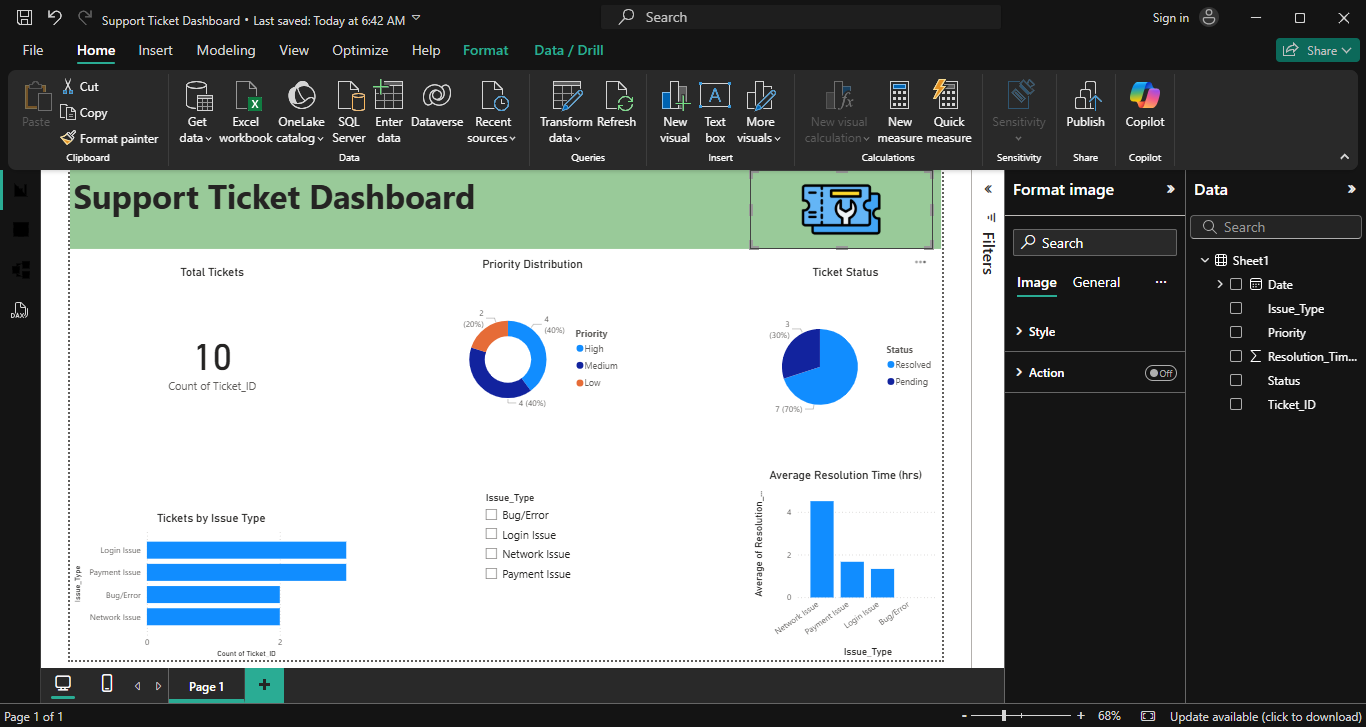

Layout of this report page (visuals, bound fields, positions):
{"tool":"powerbi","page":{"name":"Page 1","canvas":[1280,720],"ordinal":0},"visuals":[{"type":"card","title":"Total Tickets","fields":{"Values":["CountNonNull(Sheet1.Ticket_ID)"]},"box":[65.5,139.4,285.6,258.7],"z":0},{"type":"pieChart","title":"Ticket Status","fields":{"Category":["Sheet1.Status"],"Y":["CountNonNull(Sheet1.Ticket_ID)"]},"box":[999.5,139.4,280.5,280.5],"z":1000},{"type":"clusteredBarChart","title":"Tickets by Issue Type","fields":{"Category":["Sheet1.Issue_Type"],"Y":["CountNonNull(Sheet1.Ticket_ID)"]},"box":[0,500.6,414.9,220.1],"z":2000},{"type":"columnChart","title":"Average Resolution Time (hrs)","fields":{"Category":["Sheet1.Issue_Type"],"Y":["Avg(Sheet1.Resolution_Time (hrs))"]},"box":[999.5,438.4,280.5,282.2],"z":3000},{"type":"donutChart","title":"Priority Distribution","fields":{"Category":["Sheet1.Priority"],"Y":["CountNonNull(Sheet1.Ticket_ID)"]},"box":[539.2,127.7,280.5,282.2],"z":4000},{"type":"textbox","box":[0,0,1279.8,116.1],"z":5000},{"type":"slicer","fields":{"Values":["Sheet1.Issue_Type"]},"box":[598,468.7,366.2,252],"z":6000},{"type":"image","box":[999.2,0,268.9,116.1],"z":7000}]}

Visuals, with their boxes on the page's 1280x720 design canvas (x1, y1, x2, y2). These are canvas units, not pixel positions in the 1366x727 screenshot, which may show the page scaled, cropped or inside an application window:
"Total Tickets" card: <region>66, 139, 351, 398</region>
"Ticket Status" pieChart: <region>1000, 139, 1280, 420</region>
"Tickets by Issue Type" clusteredBarChart: <region>0, 501, 415, 721</region>
"Average Resolution Time (hrs)" columnChart: <region>1000, 438, 1280, 721</region>
"Priority Distribution" donutChart: <region>539, 128, 820, 410</region>
textbox: <region>0, 0, 1280, 116</region>
slicer - Sheet1.Issue_Type: <region>598, 469, 964, 721</region>
image: <region>999, 0, 1268, 116</region>
